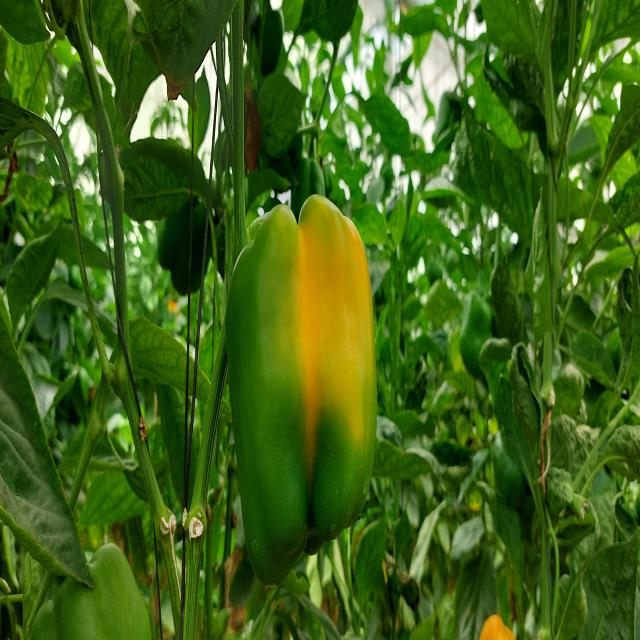GreenishYellow--Can-be-Harvested: (199, 187, 408, 593)
